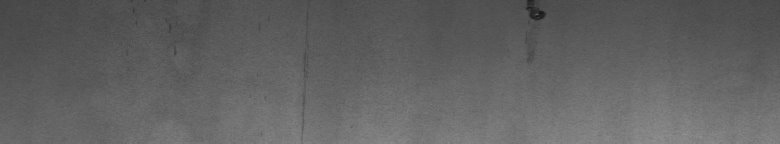fi: (521, 4, 551, 63)
